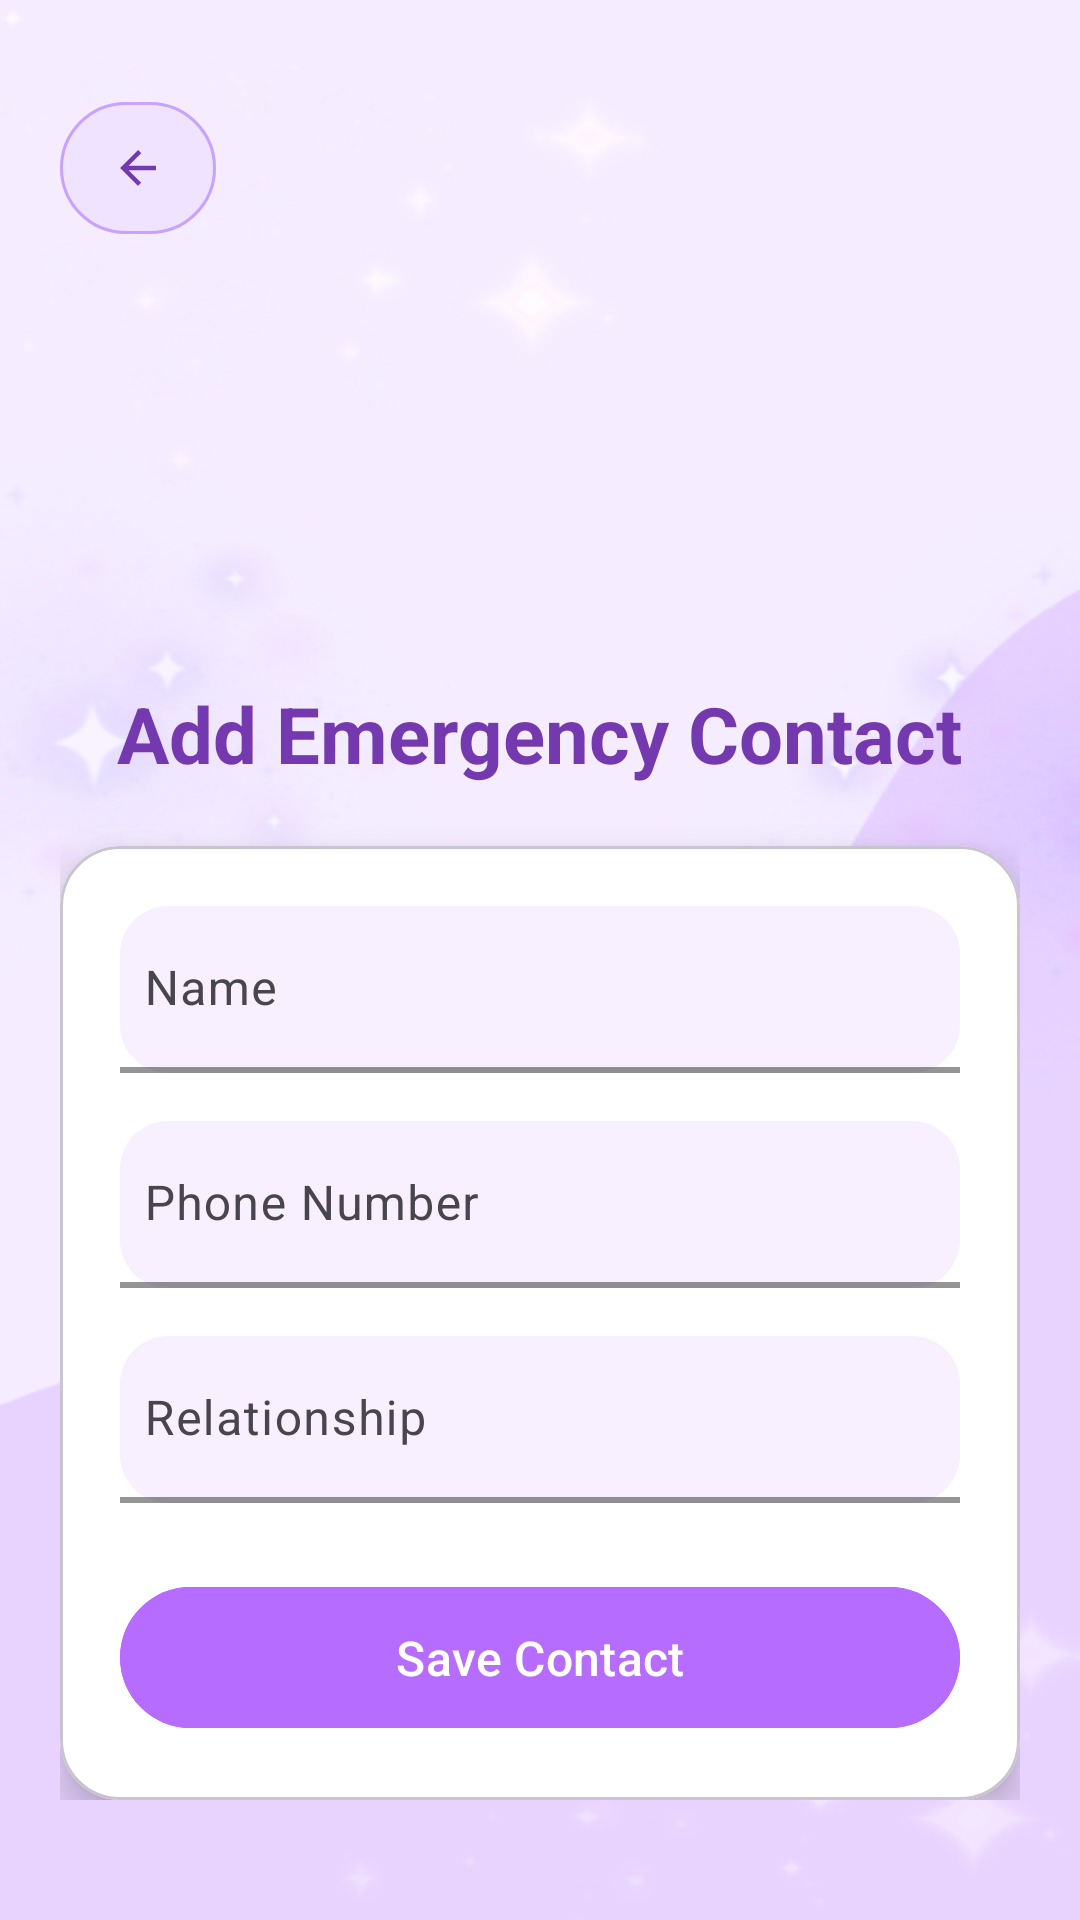

Point at icon controls on the screen. Image size 1080px x 1920px, points as (x=x, y=y).
arrow back: (x=138, y=168)
